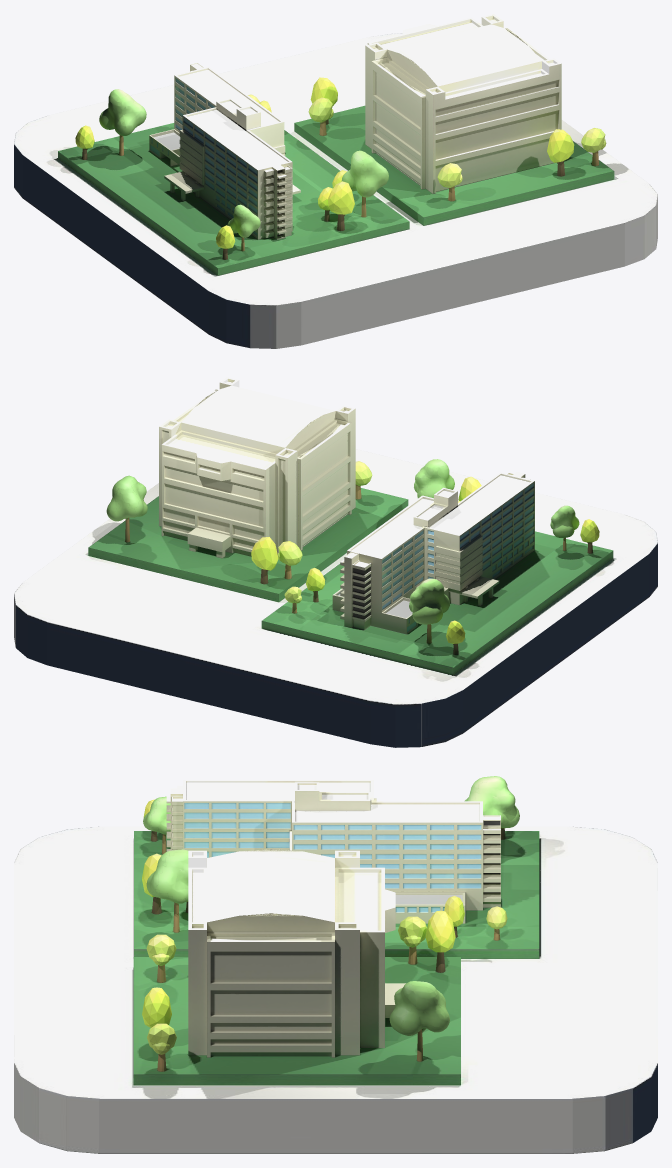
3 views of the same model, one above another, from view 1: azimuth 30°, elevation 25°; view 2: azimuth 150°, elevation 25°; view 3: azimuth 270°, elevation 25° (orthographic). The views are drawn at different scales.
Parts seen in each view (by area): view 1: Cube, 創新產業學院2, 底板.001, Cylinder.088; view 2: Cube, 創新產業學院2, 底板.001, Cylinder.088; view 3: Cube, 創新產業學院2, 底板.001, Cylinder.088.
Part boxes in pixels (x1,y1,x2,y2): Cube: (14,33,657,348); 創新產業學院2: (149,14,561,239); 底板.001: (58,105,614,275); Cylinder.088: (75,77,606,259); Cube: (14,449,657,747); 創新產業學院2: (159,377,534,634); 底板.001: (88,488,613,675); Cylinder.088: (106,459,599,654); Cube: (14,826,657,1153); 創新產業學院2: (166,780,500,1057); 底板.001: (133,831,539,1085); Cylinder.088: (142,776,519,1071).
Bounding box in the file's own units: 18 × 6.18 × 18.
Materials: 12 (12 with a texture image).
